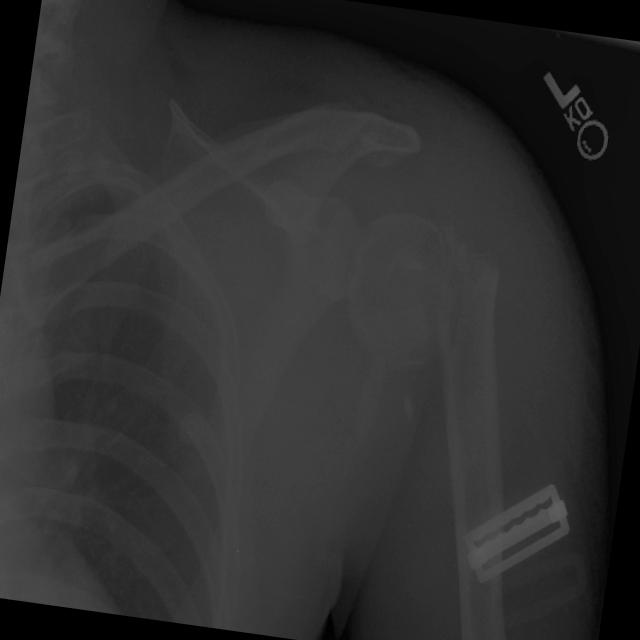shoulder fracture: (381, 190, 543, 363)
